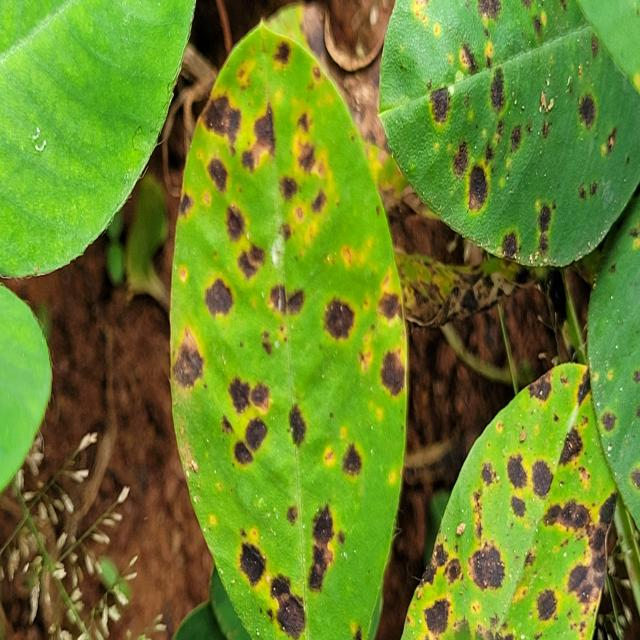Ground nut_tikka leaf spot: (171, 18, 406, 640), (379, 8, 640, 259)
